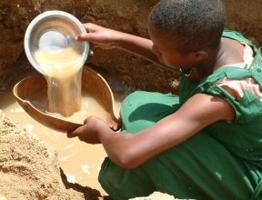person: (67, 1, 262, 200)
